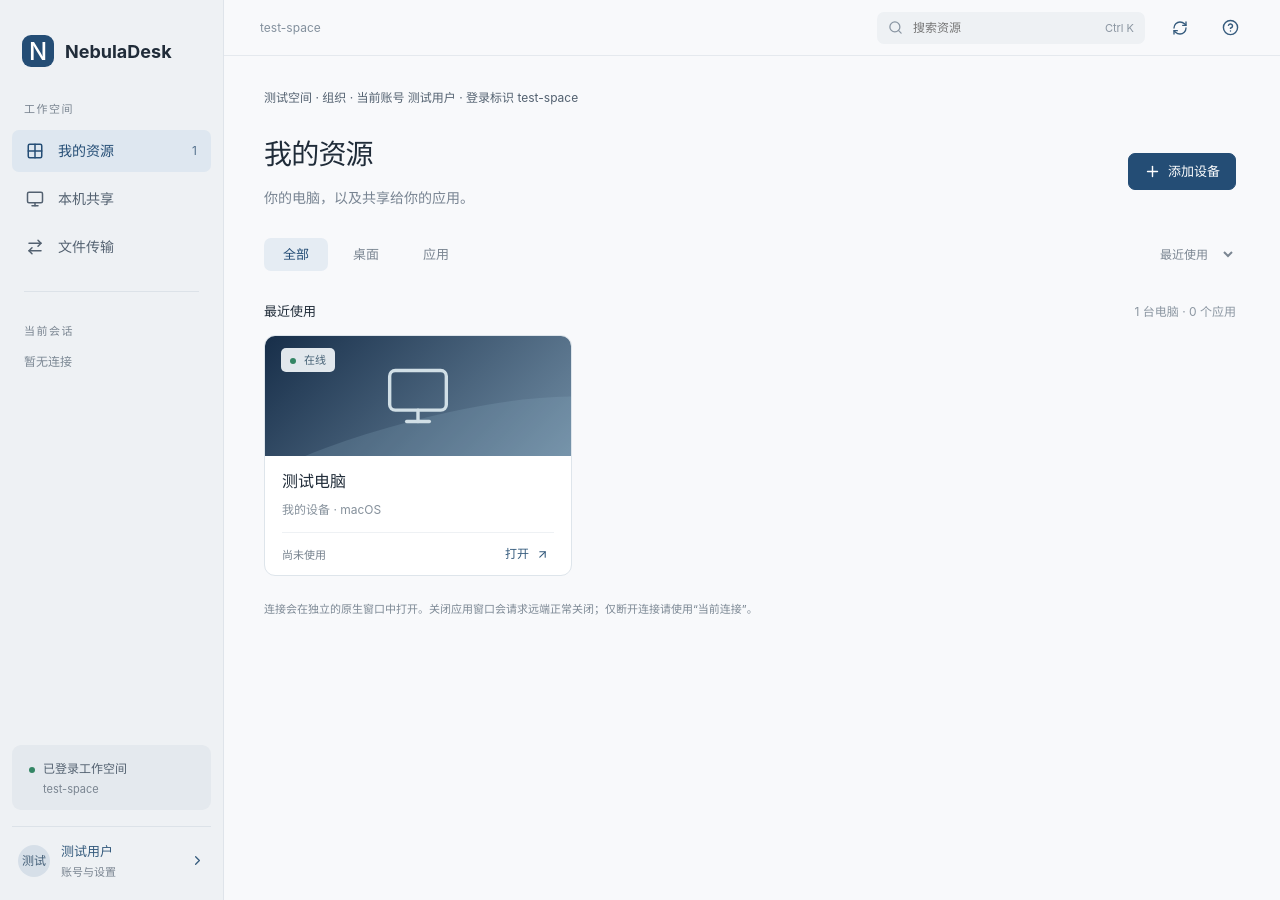
Scenario: desktop presentation and actions › keeps an asynchronous native failure visible after its window has closed
This screenshot has width=1280, height=900.
Click the button "打开" at (527, 554), box [500,541,554,567]
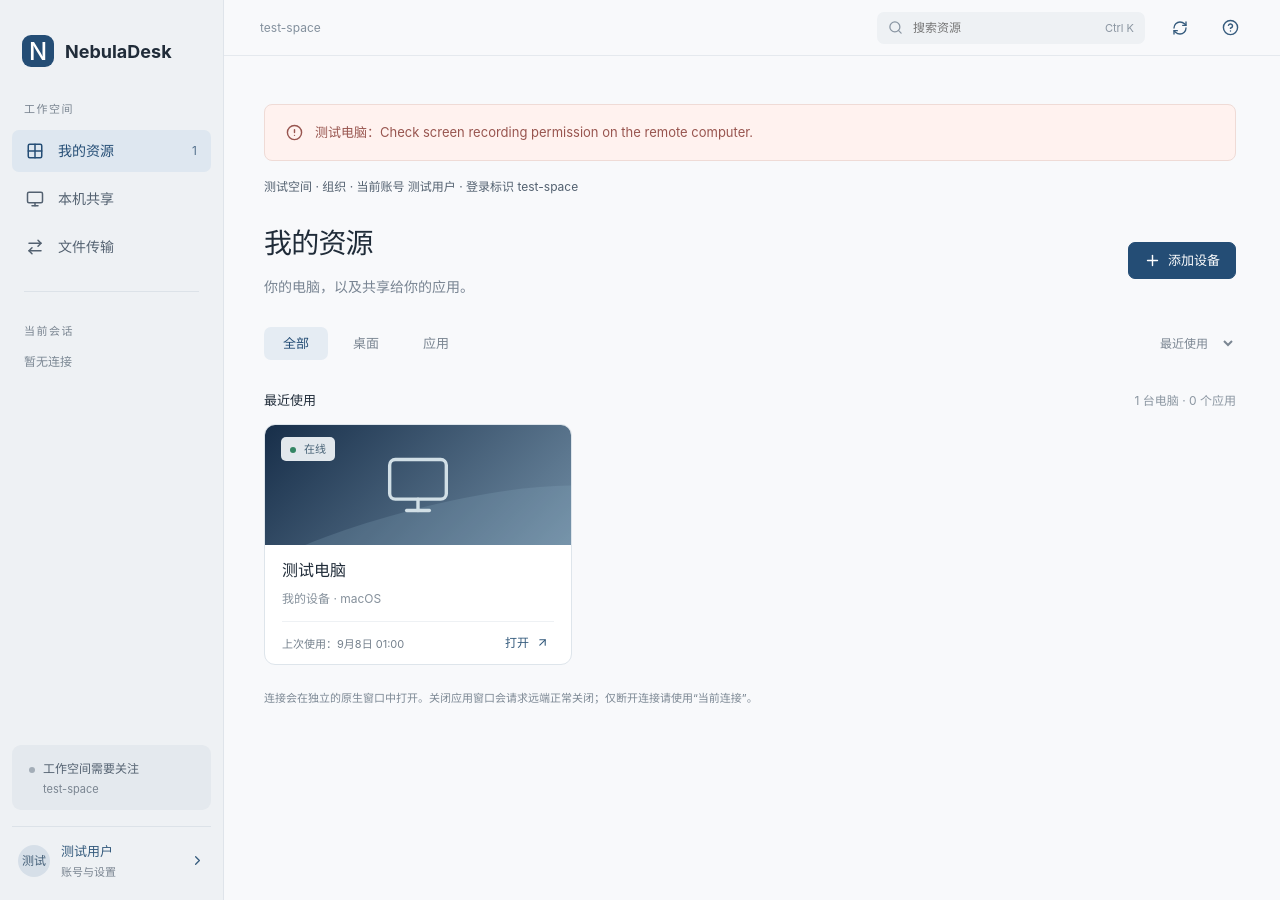
Expected: the message shows "Check screen recording permission on the remote computer.", [315,124,753,140]
Expected: the message shows "测试电脑", [315,124,753,140]
